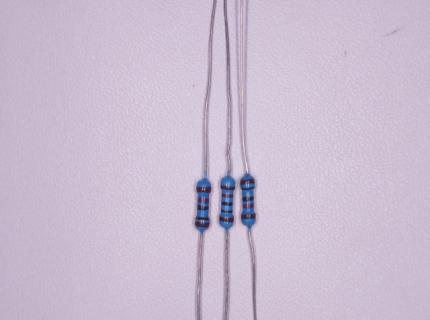Black band: (241, 185, 255, 192), (194, 215, 209, 221), (197, 204, 209, 211), (220, 208, 232, 214), (242, 196, 254, 201), (221, 201, 232, 206)
Brown band: (239, 178, 255, 186), (194, 221, 210, 229), (240, 213, 256, 220), (196, 186, 211, 193), (219, 216, 235, 222), (220, 185, 235, 191)
Red band: (197, 197, 210, 204), (221, 193, 234, 198), (242, 203, 254, 208)
